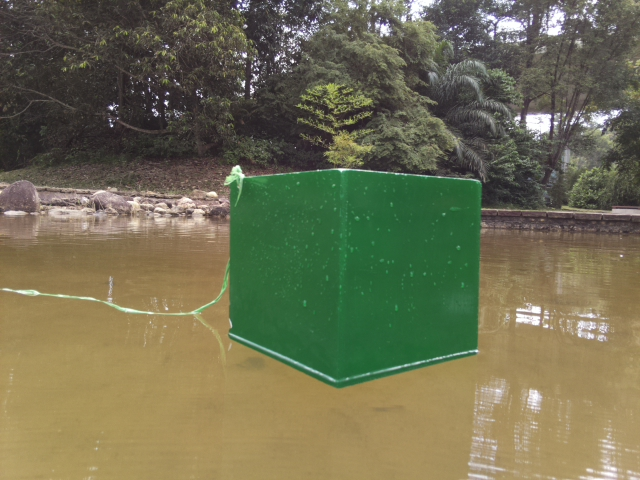obstacle: (228, 167, 481, 390)
